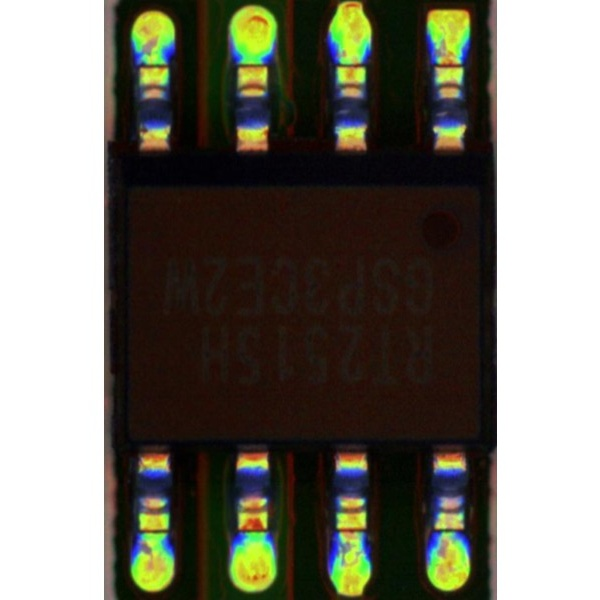Bad_podu: (440, 42, 456, 86), (338, 514, 358, 548)
